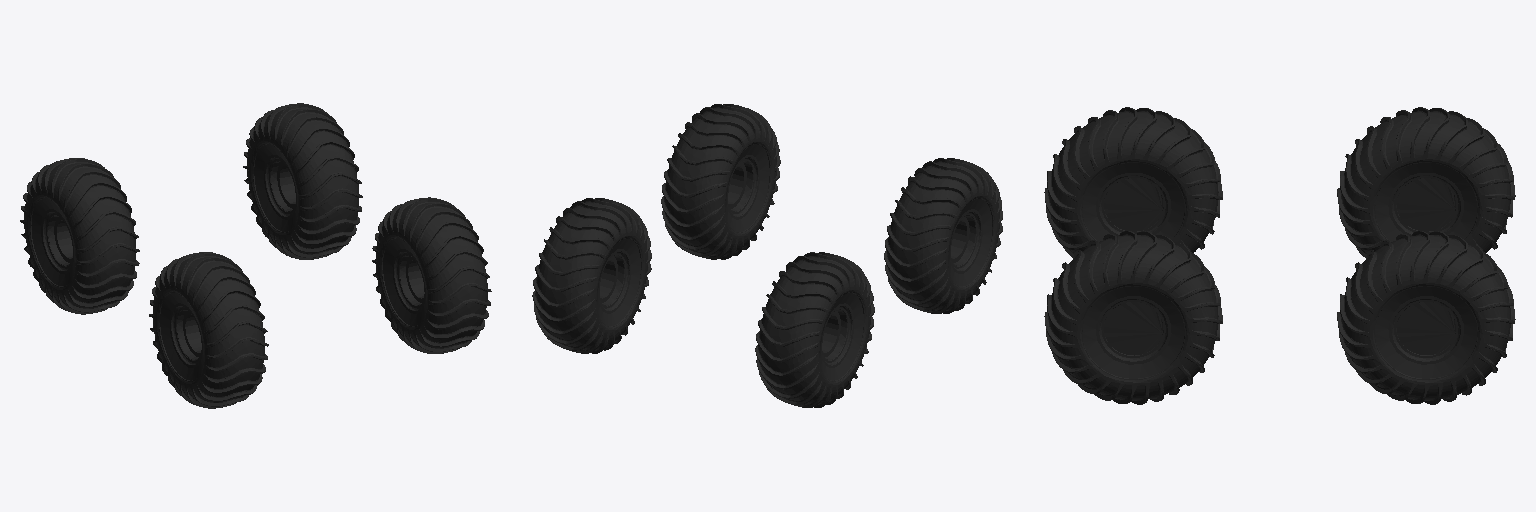
The robot description file, URDF, robot "rover_platform ":
<?xml version="1.0" ?>
<!-- =================================================================================== -->
<!-- |    This document was autogenerated by xacro from robot.xacro                    | -->
<!-- |    EDITING THIS FILE BY HAND IS NOT RECOMMENDED                                 | -->
<!-- =================================================================================== -->
<robot name="rover_platform ">
  <!-- 
    <xacro:include filename="colors.xacro" />
    <xacro:include filename="link_joints_def.xacro" /> -->
  <!-- <xacro:include filename="rover.gazebo-fortress.xacro" /> -->
  <material name="light_grey">
    <color rgba="0.4 0.4 0.4 1.0"/>
  </material>
  <material name="yellow">
    <color rgba="0.95 0.816 0.082 1.0"/>
  </material>
  <material name="black">
    <color rgba="0.15 0.15 0.15 1.0"/>
  </material>
  <material name="dark_grey">
    <color rgba="0.2 0.2 0.2 1.0"/>
  </material>
  <material name="white">
    <color rgba="0.9 0.9 0.9 1.0"/>
  </material>
  <material name="red">
    <color rgba="0.9 0.0 0.0 1.0"/>
  </material>
  <link name="rover_platform/base_link"/>
  <joint name="base_link_joint" type="fixed">
    <origin rpy="0 0 0" xyz="0 0 0.025"/>
    <parent link="rover_platform/base_link"/>
    <child link="chassis_link"/>
  </joint>
  <link name="chassis_link">
    <inertial>
      <origin rpy="0 0 0" xyz="0 0 0"/>
      <mass value="100"/>
      <inertia ixx="4.833333333333333" ixy="0" ixz="0" iyy="15.937500000000002" iyz="0" izz="15.937500000000002"/>
    </inertial>
    <visual>
      <origin rpy="0 0 0" xyz="0 0 -0.1"/>
      <geometry>
        <mesh filename="package://rover_description/meshes/rover_platform/visuals/chassis.stl"/>
        <!-- <box size="${chassis_length} ${chassis_width} ${chassis_height}" /> -->
      </geometry>
      <material name="yellow">
        <color rgba="0.15 0.15 0.15 1.0"/>
      </material>
    </visual>
    <collision>
      <origin rpy="0 0 0" xyz="0 0 -0.1"/>
      <geometry>
        <mesh filename="package://rover_description/meshes/rover_platform/visuals/chassis-collision.stl"/>
        <!-- <box size="${chassis_length} ${chassis_width} ${chassis_height}" /> -->
      </geometry>
    </collision>
  </link>
  <link name="imu_link"/>
  <joint name="imu_link_joint" type="fixed">
    <origin rpy="0 0 0" xyz="0 0 0"/>
    <parent link="chassis_link"/>
    <child link="imu_link"/>
  </joint>
  <link name="front_left_wheel_link">
    <inertial>
      <origin rpy="0 0 0" xyz="0 0 0"/>
      <mass value="15"/>
      <inertia ixx="0.01" ixy="0" ixz="0" iyy="0.01" iyz="0" izz="0.01"/>
    </inertial>
    <visual>
      <origin rpy="0 0 1.5707963267948966" xyz="0 0 0"/>
      <geometry>
        <!-- <cylinder radius="${wheel_radius}" length="${wheel_width}" /> -->
        <mesh filename="package://rover_description/meshes/rover_platform/visuals/wheel.stl"/>
      </geometry>
      <material name="dark_grey">
        <color rgba="0.2 0.2 0.2 1.0"/>
      </material>
    </visual>
    <collision>
      <origin rpy="0 0 1.5707963267948966" xyz="0 0 0"/>
      <geometry>
        <cylinder length="0.25" radius="0.3"/>
      </geometry>
    </collision>
  </link>
  <joint name="front_left_wheel_joint" type="continuous">
    <parent link="chassis_link"/>
    <child link="front_left_wheel_link"/>
    <origin rpy="0 0 0" xyz="0.5 0.5 -0.05"/>
    <axis xyz="0 1 0"/>
  </joint>
  <link name="front_right_wheel_link">
    <inertial>
      <origin rpy="0 0 0" xyz="0 0 0"/>
      <mass value="15"/>
      <inertia ixx="0.01" ixy="0" ixz="0" iyy="0.01" iyz="0" izz="0.01"/>
    </inertial>
    <visual>
      <origin rpy="0 0 1.5707963267948966" xyz="0 0 0"/>
      <geometry>
        <!-- <cylinder radius="${wheel_radius}" length="${wheel_width}" /> -->
        <mesh filename="package://rover_description/meshes/rover_platform/visuals/wheel.stl"/>
      </geometry>
      <material name="dark_grey">
        <color rgba="0.2 0.2 0.2 1.0"/>
      </material>
    </visual>
    <collision>
      <origin rpy="0 0 1.5707963267948966" xyz="0 0 0"/>
      <geometry>
        <cylinder length="0.25" radius="0.3"/>
      </geometry>
    </collision>
  </link>
  <joint name="front_right_wheel_joint" type="continuous">
    <parent link="chassis_link"/>
    <child link="front_right_wheel_link"/>
    <origin rpy="0 0 0" xyz="0.5 -0.5 -0.05"/>
    <axis xyz="0 1 0"/>
  </joint>
  <link name="rear_left_wheel_link">
    <inertial>
      <origin rpy="0 0 0" xyz="0 0 0"/>
      <mass value="15"/>
      <inertia ixx="0.01" ixy="0" ixz="0" iyy="0.01" iyz="0" izz="0.01"/>
    </inertial>
    <visual>
      <origin rpy="0 0 1.5707963267948966" xyz="0 0 0"/>
      <geometry>
        <!-- <cylinder radius="${wheel_radius}" length="${wheel_width}" /> -->
        <mesh filename="package://rover_description/meshes/rover_platform/visuals/wheel.stl"/>
      </geometry>
      <material name="dark_grey">
        <color rgba="0.2 0.2 0.2 1.0"/>
      </material>
    </visual>
    <collision>
      <origin rpy="0 0 1.5707963267948966" xyz="0 0 0"/>
      <geometry>
        <cylinder length="0.25" radius="0.3"/>
      </geometry>
    </collision>
  </link>
  <joint name="rear_left_wheel_joint" type="continuous">
    <parent link="chassis_link"/>
    <child link="rear_left_wheel_link"/>
    <origin rpy="0 0 0" xyz="-0.5 0.5 -0.05"/>
    <axis xyz="0 1 0"/>
  </joint>
  <link name="rear_right_wheel_link">
    <inertial>
      <origin rpy="0 0 0" xyz="0 0 0"/>
      <mass value="15"/>
      <inertia ixx="0.01" ixy="0" ixz="0" iyy="0.01" iyz="0" izz="0.01"/>
    </inertial>
    <visual>
      <origin rpy="0 0 1.5707963267948966" xyz="0 0 0"/>
      <geometry>
        <!-- <cylinder radius="${wheel_radius}" length="${wheel_width}" /> -->
        <mesh filename="package://rover_description/meshes/rover_platform/visuals/wheel.stl"/>
      </geometry>
      <material name="dark_grey">
        <color rgba="0.2 0.2 0.2 1.0"/>
      </material>
    </visual>
    <collision>
      <origin rpy="0 0 1.5707963267948966" xyz="0 0 0"/>
      <geometry>
        <cylinder length="0.25" radius="0.3"/>
      </geometry>
    </collision>
  </link>
  <joint name="rear_right_wheel_joint" type="continuous">
    <parent link="chassis_link"/>
    <child link="rear_right_wheel_link"/>
    <origin rpy="0 0 0" xyz="-0.5 -0.5 -0.05"/>
    <axis xyz="0 1 0"/>
  </joint>
<plugin filename="gz-sim-diff-drive-system" name="gz::sim::systems::DiffDrive">
    <!-- Wheel Information -->
    <left_joint>front_left_wheel_joint</left_joint>
    <left_joint>rear_left_wheel_joint</left_joint>
    <right_joint>front_right_wheel_joint</right_joint>
    <right_joint>rear_right_wheel_joint</right_joint>
    <wheel_radius>0.305</wheel_radius>
    <wheel_separation>1.386</wheel_separation>
    <max_linear_acceleration>1.0</max_linear_acceleration>
    <!-- Input -->
    <topic>cmd_vel</topic>
    <!-- Output -->
    <odometry_frame>odom</odometry_frame> <!-- Ensure no prefix here -->
    <robot_base_frame>base_link</robot_base_frame> <!-- Ensure no prefix here -->
    <publish_odom>true</publish_odom>
    <publish_odom_tf>true</publish_odom_tf>
    <publish_wheel_tf>true</publish_wheel_tf>
    <odom_topic>odom</odom_topic>
    <odom_publisher_frequency>50</odom_publisher_frequency>
    <tf_topic>/tf</tf_topic>
</plugin>

  <!-- Add Accessories -->
  <!-- <xacro:include filename="accessories.urdf.xacro" />      -->
</robot>

--- What the picture shows (computed from the rendered views, not written in the file) ---
The picture shows the robot from 3 angles, left to right: view 1: azimuth 30°, elevation 25°; view 2: azimuth 150°, elevation 25°; view 3: azimuth 270°, elevation 25°; orthographic projection.
Robot: rover_platform  — 7 links, 6 joints (4 continuous, 2 fixed); root link rover_platform/base_link; default pose: all joints at 0.
Visible links, largest first — view 1: rear_right_wheel_link, front_left_wheel_link, rear_left_wheel_link, front_right_wheel_link; view 2: rear_left_wheel_link, front_right_wheel_link, front_left_wheel_link, rear_right_wheel_link; view 3: front_right_wheel_link, front_left_wheel_link, rear_left_wheel_link, rear_right_wheel_link.
Link boxes in pixels (x1=…): rear_right_wheel_link: x1=149, y1=252, x2=268, y2=408; front_left_wheel_link: x1=243, y1=103, x2=362, y2=259; rear_left_wheel_link: x1=20, y1=158, x2=139, y2=314; front_right_wheel_link: x1=372, y1=197, x2=491, y2=353; rear_left_wheel_link: x1=755, y1=252, x2=874, y2=407; front_right_wheel_link: x1=661, y1=104, x2=780, y2=259; front_left_wheel_link: x1=532, y1=198, x2=651, y2=353; rear_right_wheel_link: x1=884, y1=158, x2=1002, y2=313; front_right_wheel_link: x1=1044, y1=231, x2=1222, y2=404; front_left_wheel_link: x1=1337, y1=231, x2=1515, y2=404; rear_left_wheel_link: x1=1337, y1=107, x2=1515, y2=258; rear_right_wheel_link: x1=1044, y1=107, x2=1222, y2=258.
Bounding box of the posed robot: 1.25 × 1.61 × 0.6093 m (x, y, z).
Meshes: 2 distinct files referenced, 4 mesh visuals loaded (1 binary STL); not drawn: 1 (reference not matched to a file when rendering).